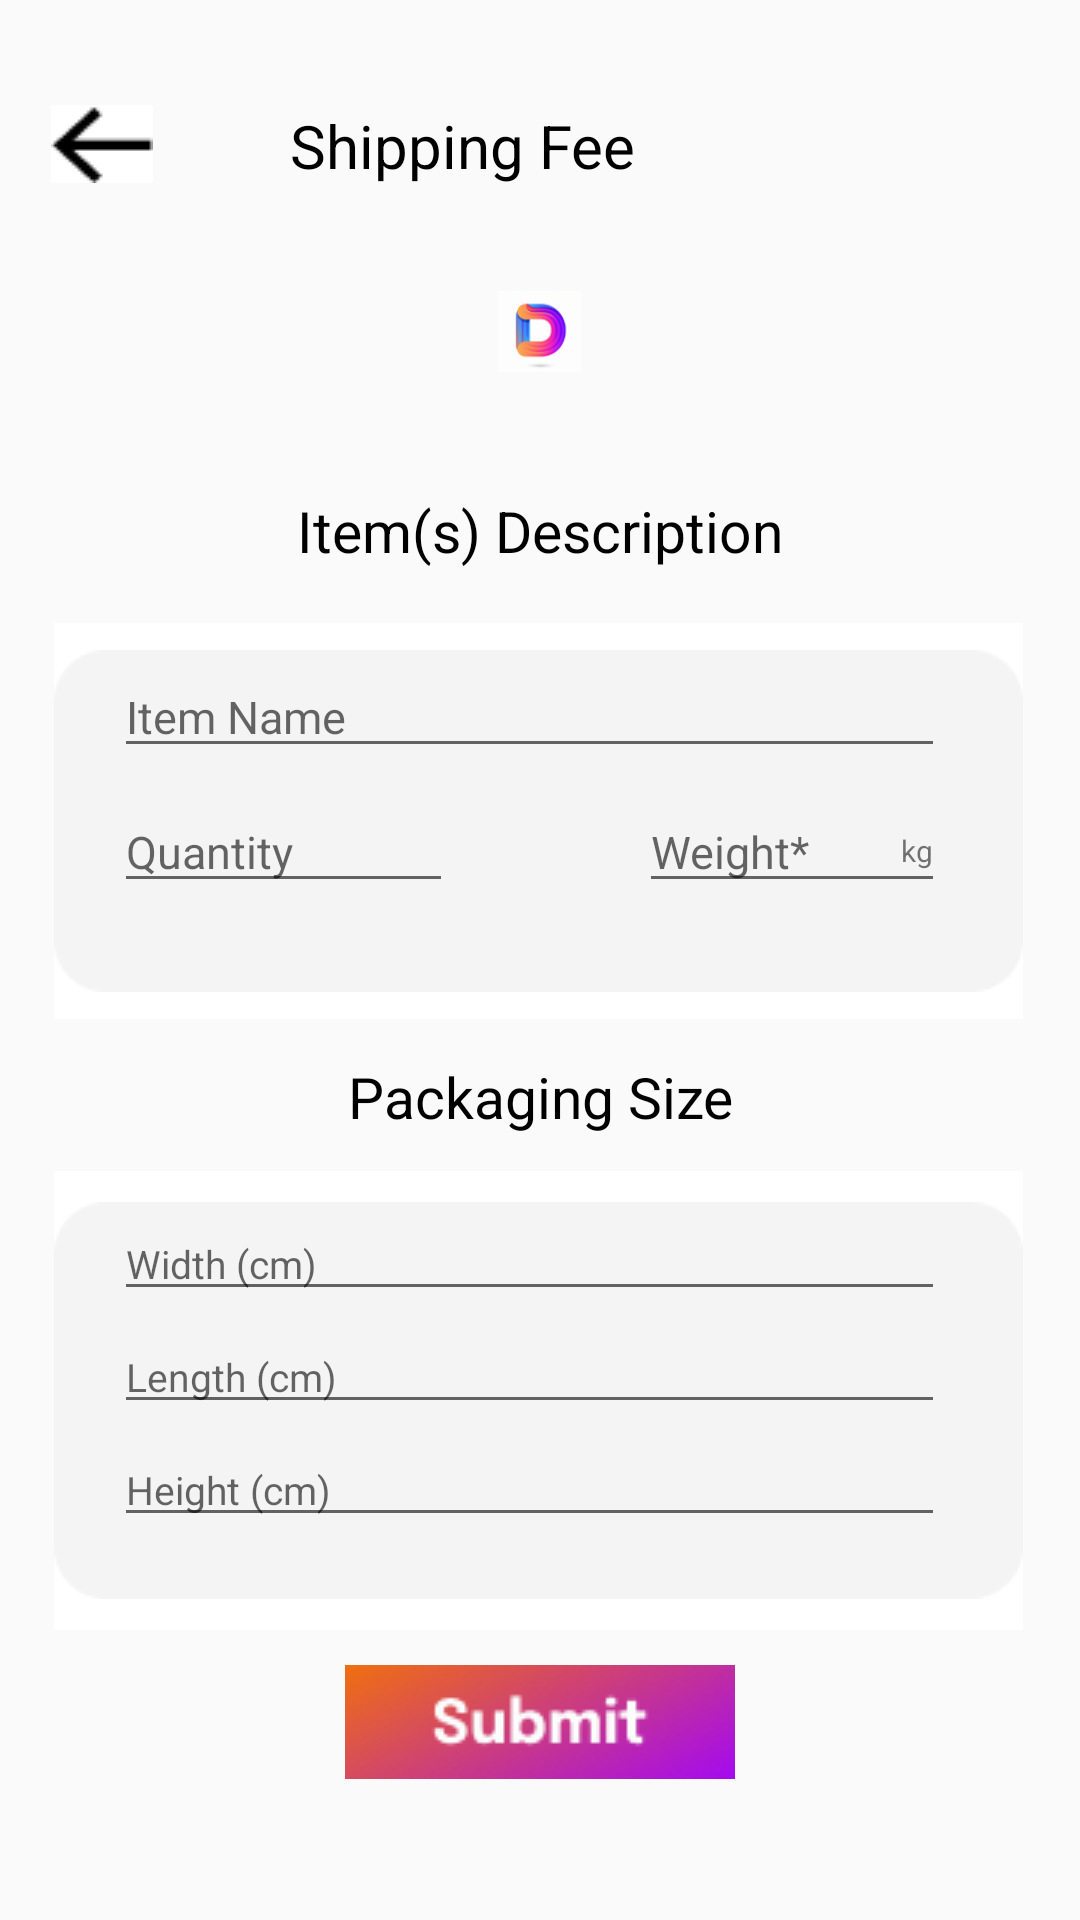

Where icons sit on this 1080 x 1920 app screen, as (x1, y1, x2, y2):
back: (51, 107, 153, 183)
